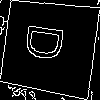D: (25, 22, 72, 64)
